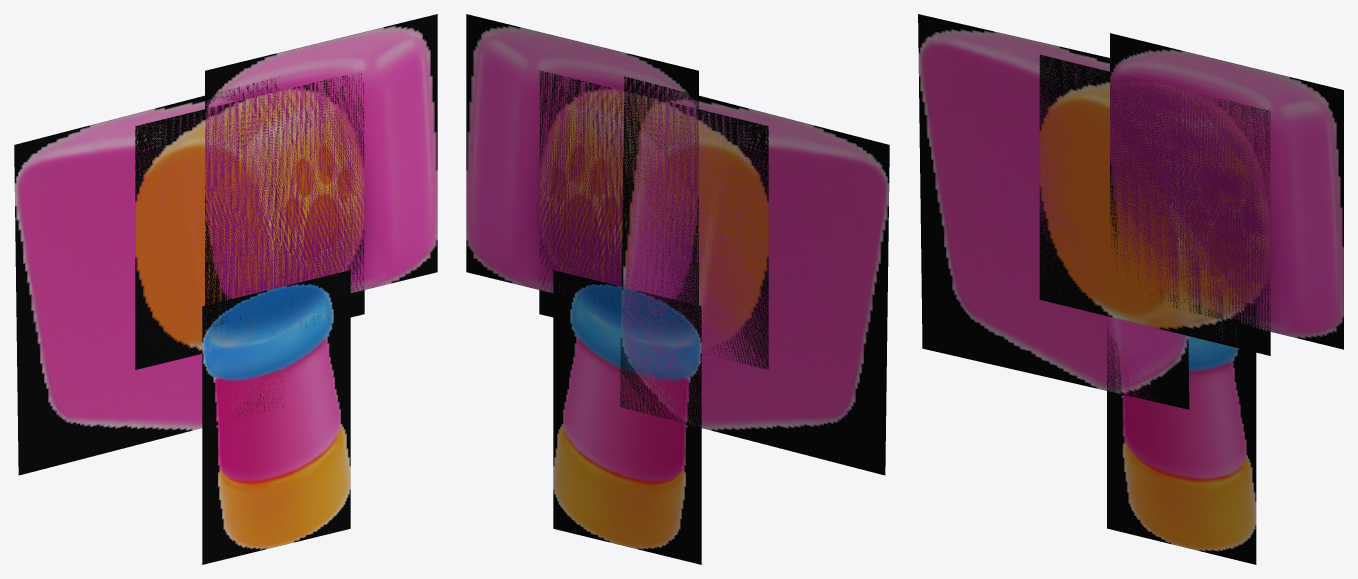
Rendered from Split Booster.glb.
3 views of the same model, side by side, from view 1: azimuth 30°, elevation 25°; view 2: azimuth 150°, elevation 25°; view 3: azimuth 330°, elevation 25° (orthographic).
Parts seen in each view (by area): view 1: Spine GameObject (booster_hammer); view 2: Spine GameObject (booster_hammer); view 3: Spine GameObject (booster_hammer).
Part boxes in pixels (left/top/right/bottom): Spine GameObject (booster_hammer): left=14, top=14, right=437, bottom=564; Spine GameObject (booster_hammer): left=466, top=14, right=889, bottom=564; Spine GameObject (booster_hammer): left=918, top=14, right=1343, bottom=564.
Size of the model in its own units: 1.1 by 1.22 by 0.
1 material, 1 textured.
